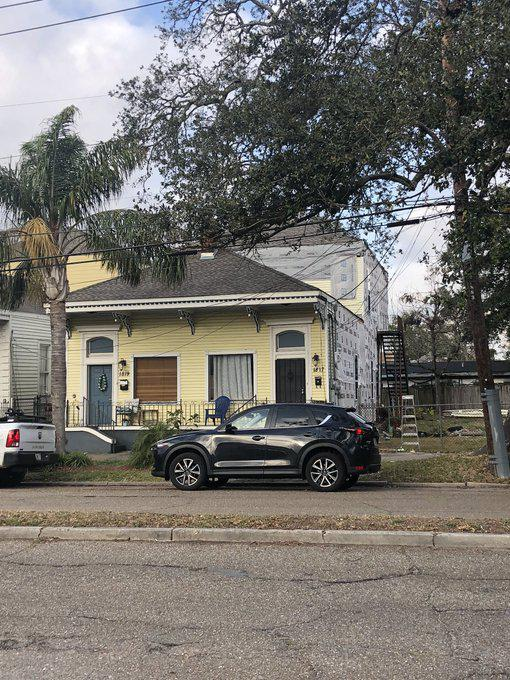minor: (0, 199, 411, 455)
